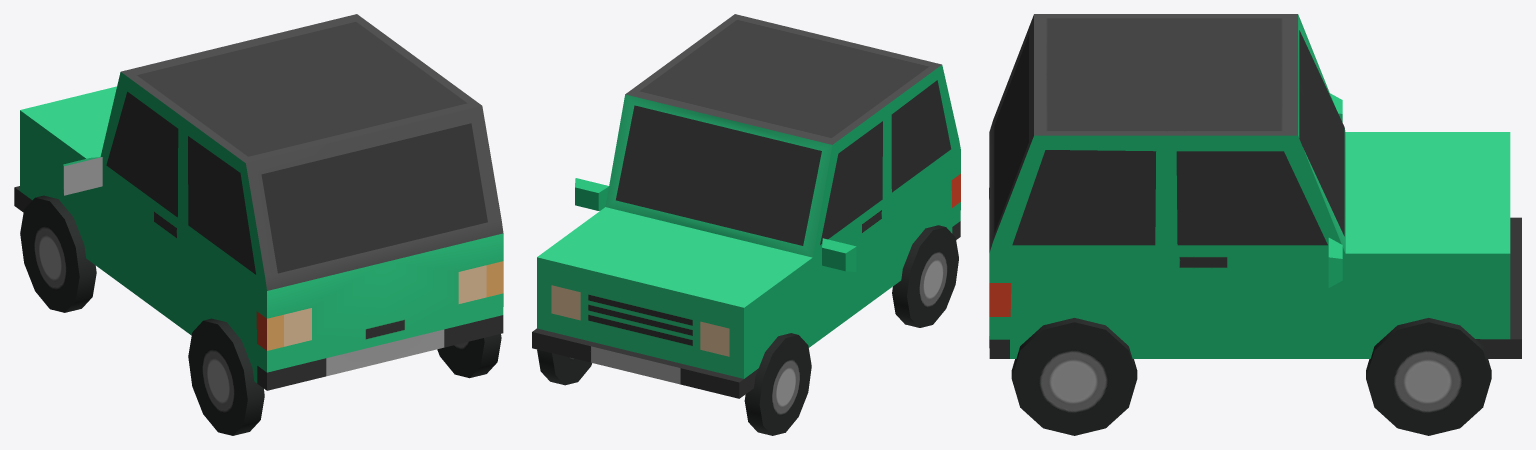
File: greenCar.glb
3 renders of one model, left to right at view 1: azimuth 30°, elevation 25°; view 2: azimuth 150°, elevation 25°; view 3: azimuth 270°, elevation 25°, orthographic. The views are drawn at different scales.
Visible parts, largest first — view 1: small4x4_green_prefab; view 2: small4x4_green_prefab; view 3: small4x4_green_prefab.
Boxes of the visible parts, box(x1,y1,x2,y2) form: small4x4_green_prefab: box(14, 14, 503, 435); small4x4_green_prefab: box(532, 14, 960, 435); small4x4_green_prefab: box(989, 14, 1521, 435).
Bounding box in the file's own units: 3.41 × 2.86 × 4.66.
1 material, 1 textured.
